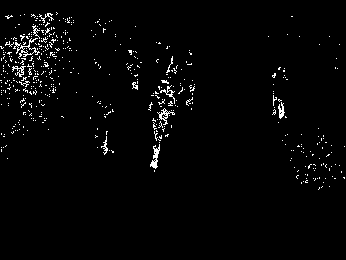person: (148, 79, 173, 171), (90, 96, 119, 159), (273, 66, 290, 118), (125, 48, 142, 90)
